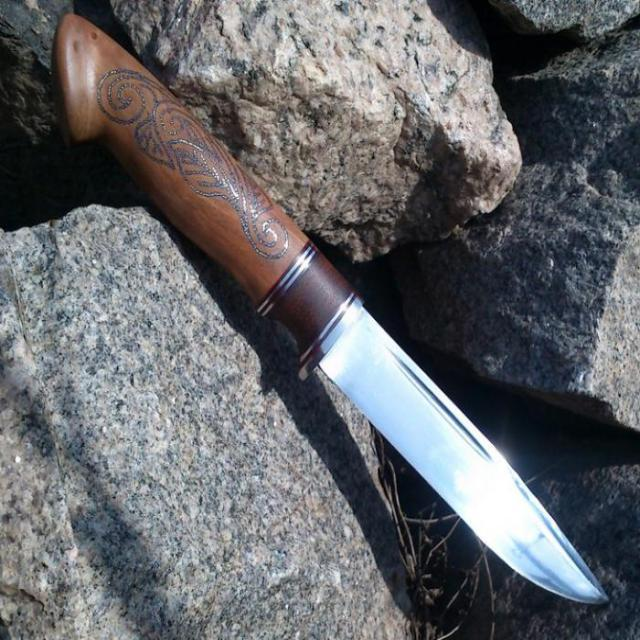Pisau: (55, 3, 622, 612)
